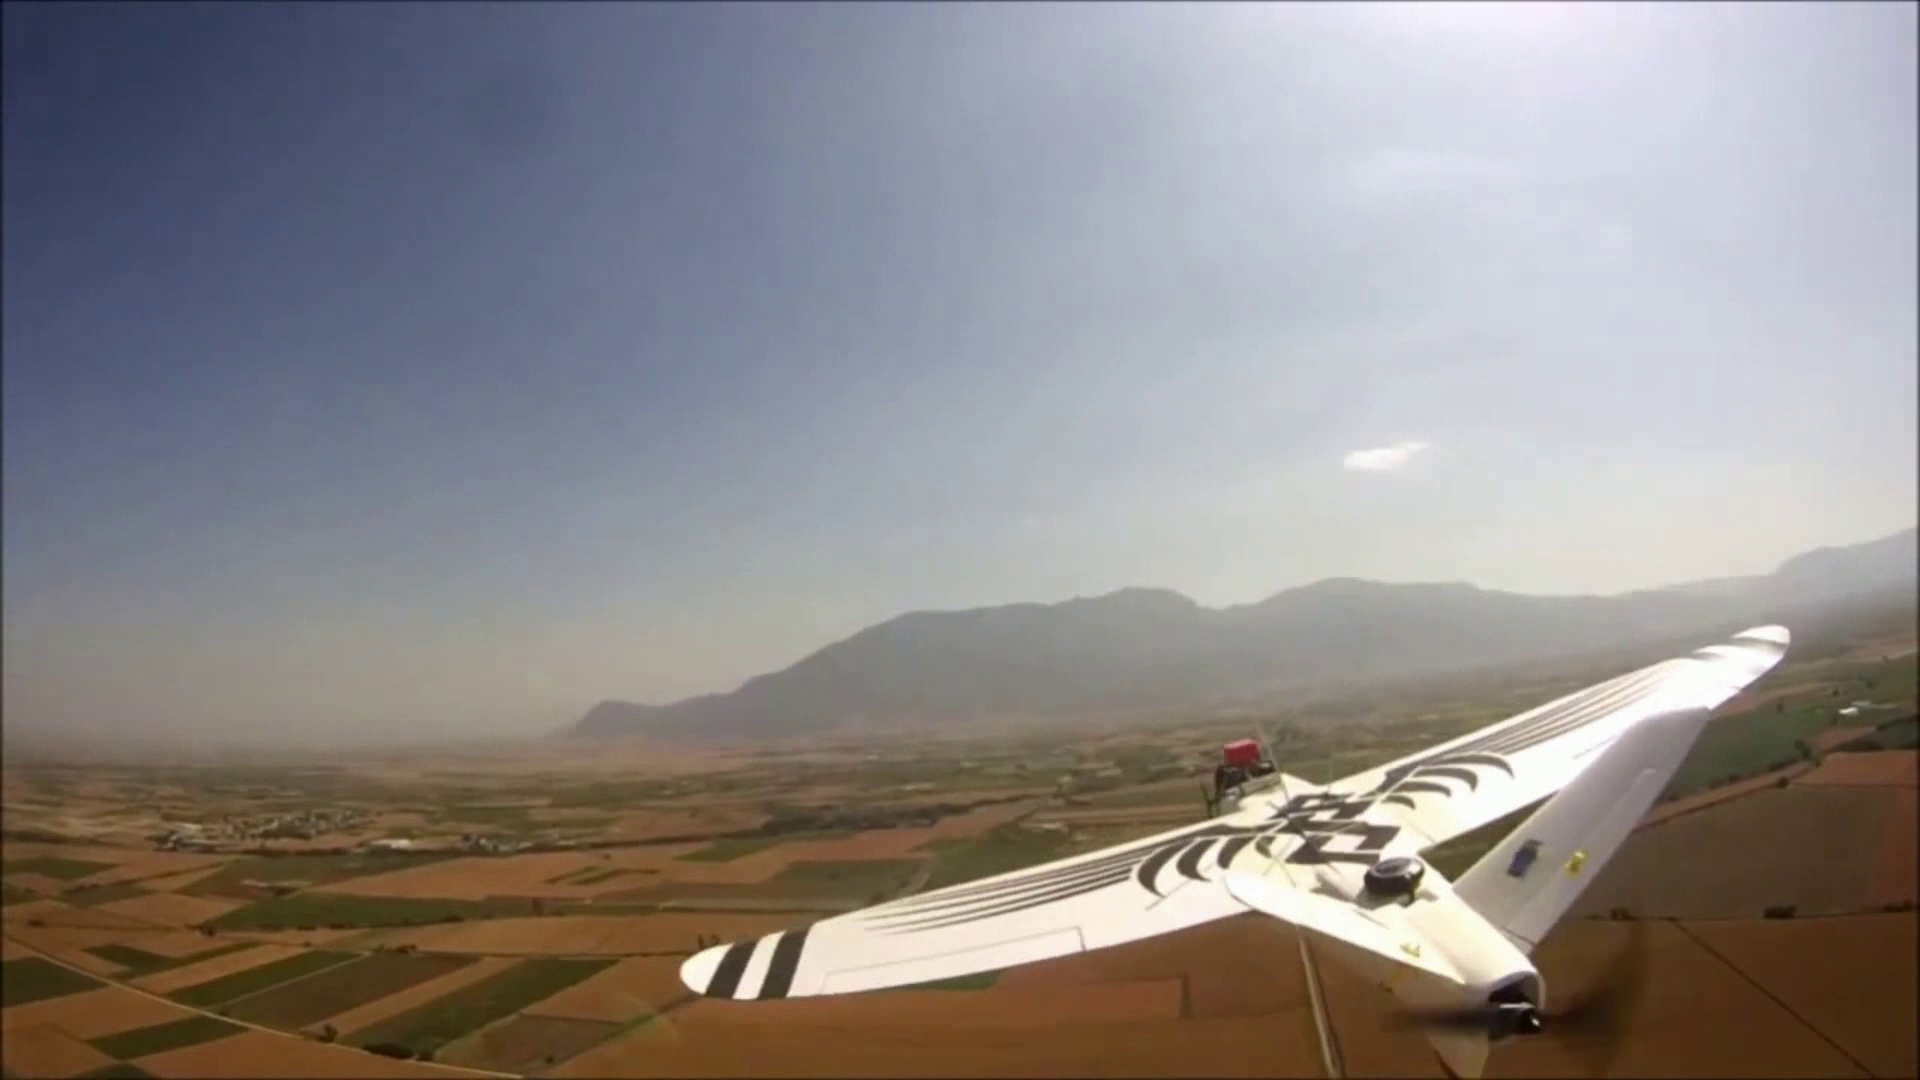airplane: (55, 621, 1816, 1067)
